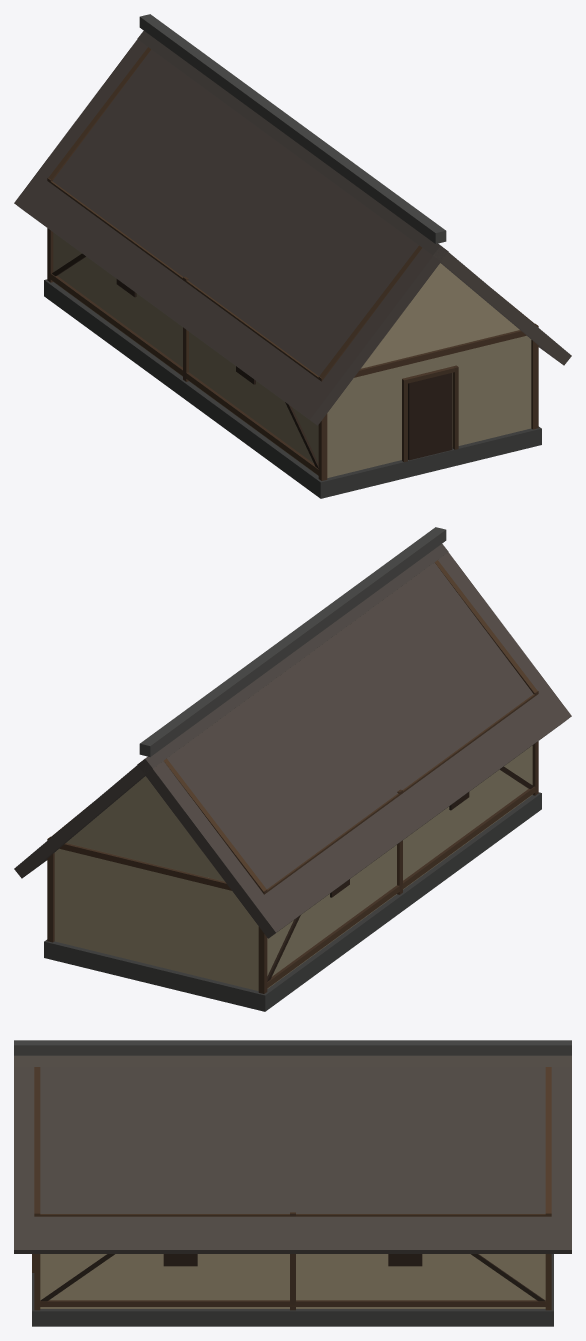
Rendered from longhouse.glb.
3 renders of one model, top to bottom at view 1: azimuth 30°, elevation 25°; view 2: azimuth 150°, elevation 25°; view 3: azimuth 270°, elevation 25°, orthographic. The views are drawn at different scales.
Visible parts, largest first — view 1: longhouse; view 2: longhouse; view 3: longhouse.
Part boxes in pixels (x1,y1,x2,y2): longhouse: (14,14,571,498); longhouse: (14,527,571,1011); longhouse: (14,1040,571,1326).
Size of the model in its own units: 6.7 by 6.03 by 13.1.
Materials: 1 (1 with a texture image).
